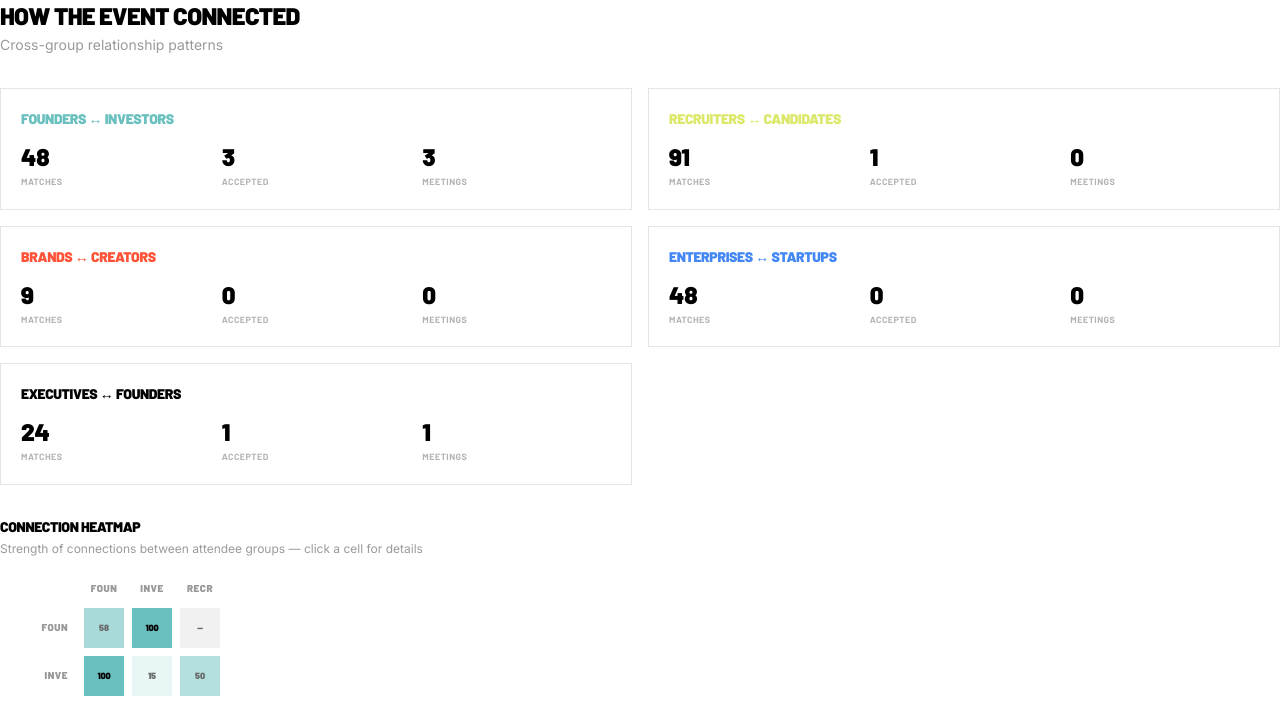
Test: RelationshipsTab — pair cards › does not flag the clean mappings
The width and height of the screenshot is (1280, 704).
Click the button "Founders ↔ Investors 48 MATCHES 3 ACCEPTED 3 MEETINGS" at (97, 118), box [0, 88, 632, 210]
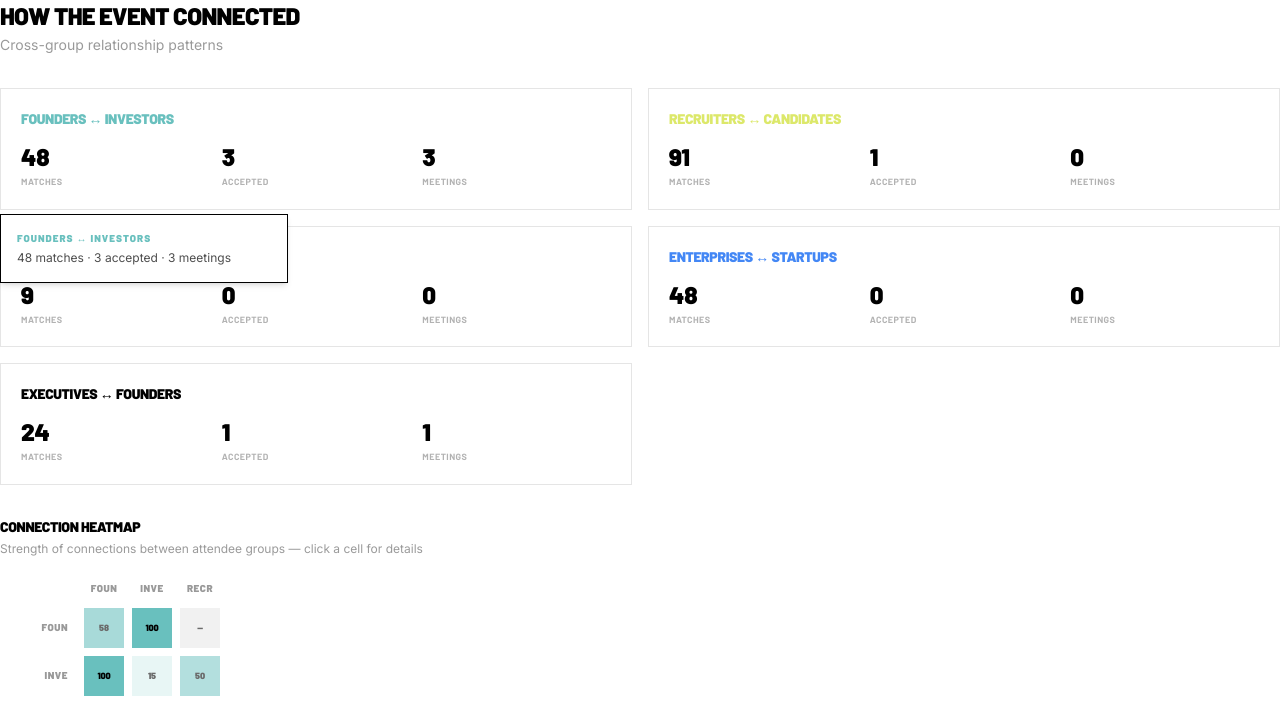
Expected: the text "48 matches · 3 accepted · 3 meetings" is shown, [17, 250, 231, 265]
